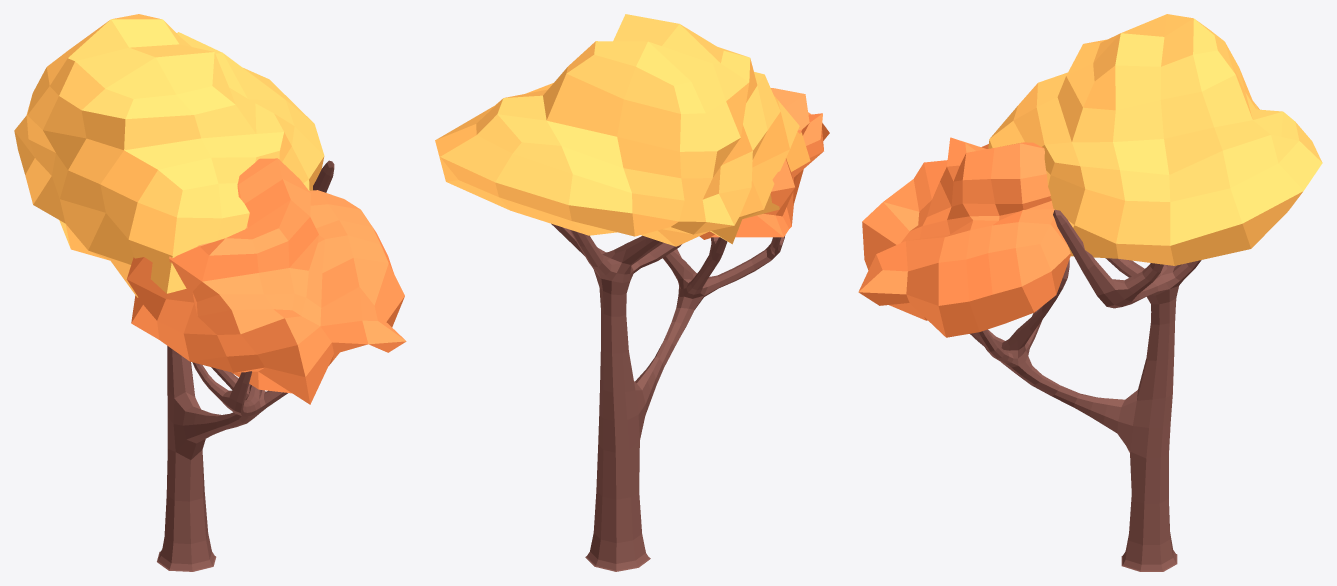
File: CommonTree_Autumn_2.glb
3 renders of one model, left to right at view 1: azimuth 30°, elevation 25°; view 2: azimuth 150°, elevation 25°; view 3: azimuth 270°, elevation 25°, orthographic. The views are drawn at different scales.
Visible parts, largest first — view 1: CommonTree_Autumn_2; view 2: CommonTree_Autumn_2; view 3: CommonTree_Autumn_2.
Part boxes in pixels (box(x1,y1,x2,y2)): CommonTree_Autumn_2: box(14, 14, 406, 571); CommonTree_Autumn_2: box(435, 14, 829, 571); CommonTree_Autumn_2: box(858, 14, 1322, 571).
Bounding box in the file's own units: 166 × 312 × 254.
